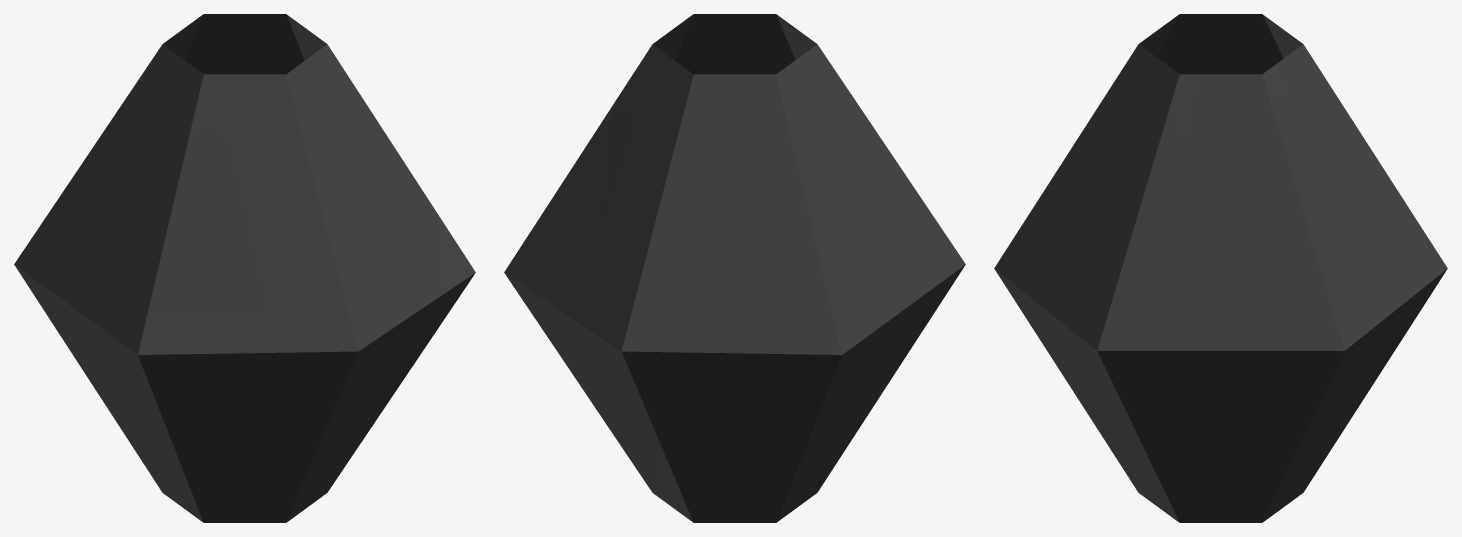
File: faust_head.obj
The picture shows the model from 3 angles, left to right: view 1: azimuth 30°, elevation 25°; view 2: azimuth 150°, elevation 25°; view 3: azimuth 270°, elevation 25°; orthographic projection.
Parts seen in each view (by area): view 1: g0; view 2: g0; view 3: g0.
Boxes of the visible parts, x1=… form: g0: x1=14, y1=14, x2=475, y2=522; g0: x1=504, y1=14, x2=965, y2=522; g0: x1=994, y1=14, x2=1447, y2=522.
Bounding box in the file's own units: 1.54 × 1.95 × 1.79.
Materials: 1 (1 with a texture image).
